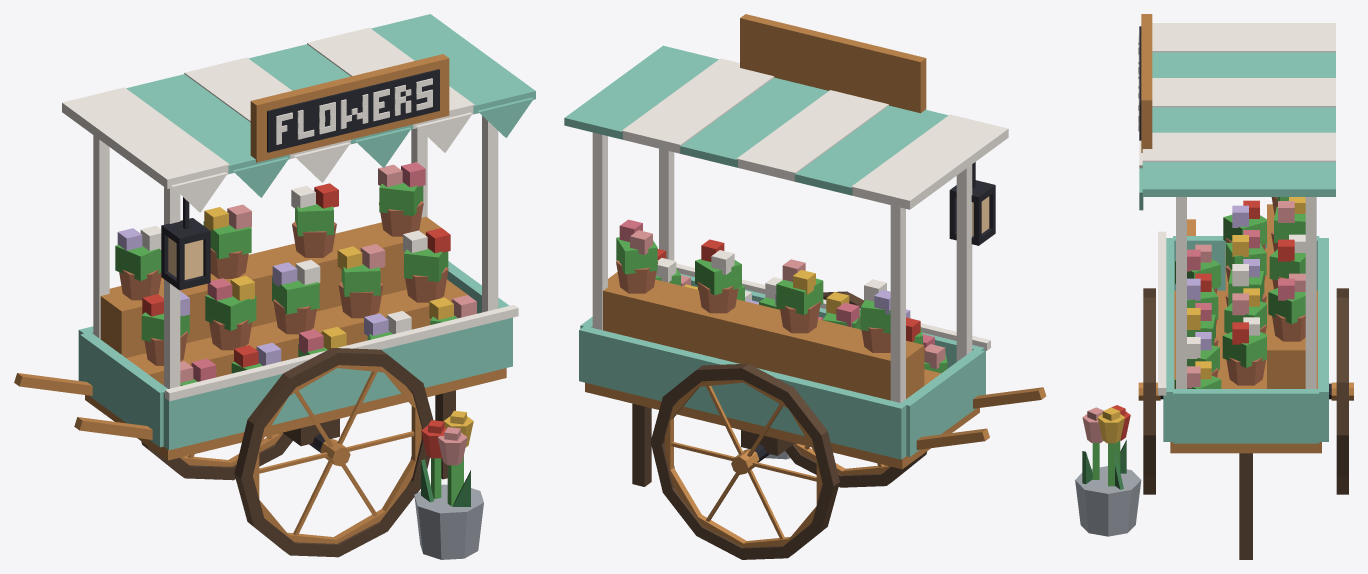
File: CatCafe_Lawn_FlowerCart.glb
The picture shows the model from 3 angles, left to right: view 1: azimuth 30°, elevation 25°; view 2: azimuth 150°, elevation 25°; view 3: azimuth 270°, elevation 25°; orthographic projection. The views are drawn at different scales.
Visible parts, largest first — view 1: CatCafe_Lawn_FlowerCart, CatCafe_Lawn_FlowerCart_Flowers, CatCafe_Lawn_FlowerCart_Lantern_Swing, CatCafe_Lawn_FlowerCart_Lantern_Glow; view 2: CatCafe_Lawn_FlowerCart, CatCafe_Lawn_FlowerCart_Flowers, CatCafe_Lawn_FlowerCart_Lantern_Swing; view 3: CatCafe_Lawn_FlowerCart, CatCafe_Lawn_FlowerCart_Flowers.
Boxes of the visible parts, x1,y1,x2,y2 form: CatCafe_Lawn_FlowerCart: (14,14,535,559); CatCafe_Lawn_FlowerCart_Flowers: (117,162,476,382); CatCafe_Lawn_FlowerCart_Lantern_Swing: (161,197,210,290); CatCafe_Lawn_FlowerCart_Lantern_Glow: (168,237,203,279); CatCafe_Lawn_FlowerCart: (564,14,1046,559); CatCafe_Lawn_FlowerCart_Flowers: (619,219,945,368); CatCafe_Lawn_FlowerCart_Lantern_Swing: (949,162,995,245); CatCafe_Lawn_FlowerCart: (1075,14,1353,559); CatCafe_Lawn_FlowerCart_Flowers: (1187,197,1305,388).
Bounding box in the file's own units: 3.32 × 3.47 × 2.02.
Materials: 1 (1 with a texture image).
